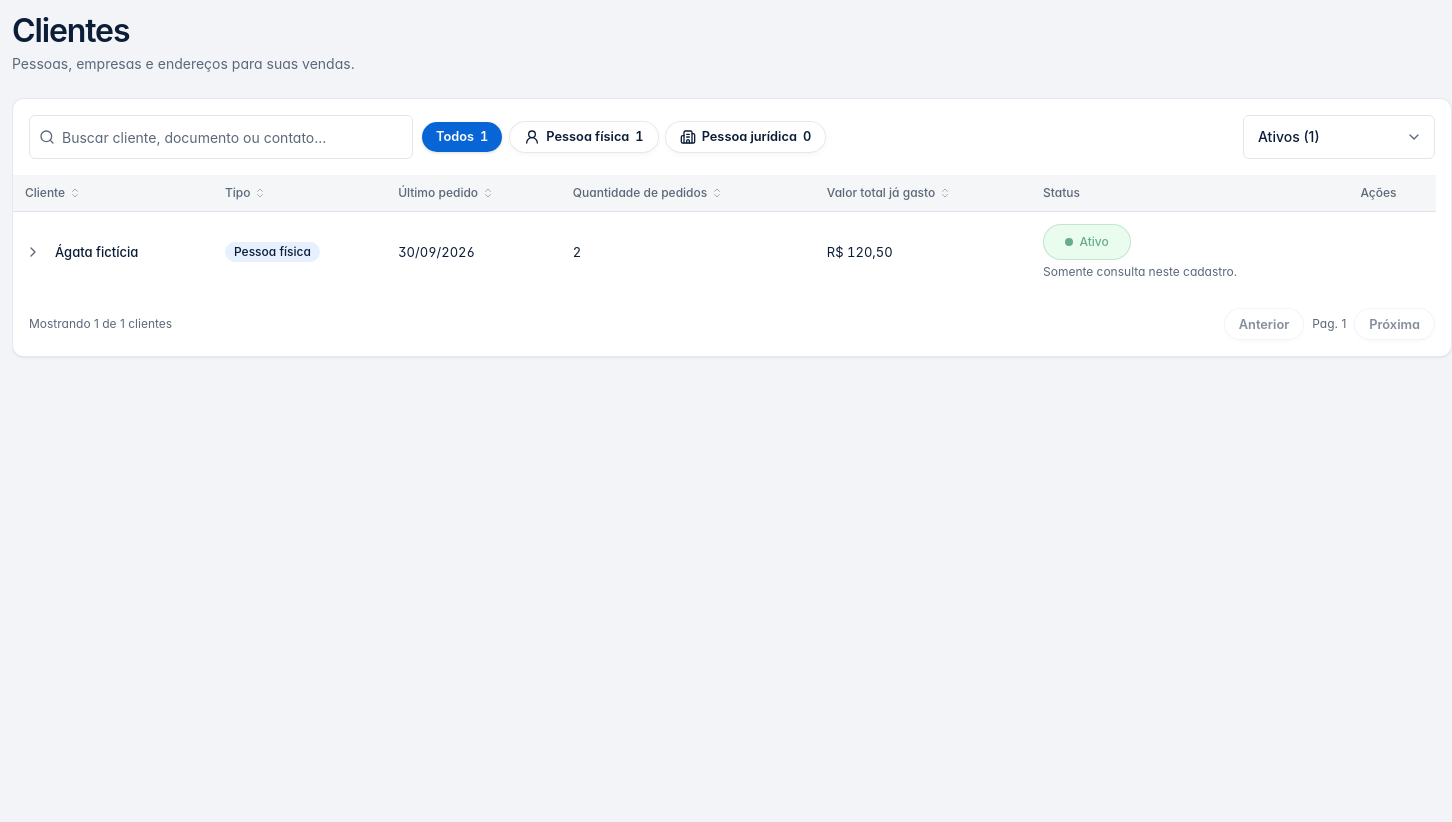
Test: clientes com padrões de Insumos › conserva a data civil da compra no último pedido e no histórico do cliente
Expected: the text "30/09/2026" is shown, [386,212,561,292]
Click the button named "Abrir detalhes de Ágata fictícia": [33, 252] box [21,240,45,264]
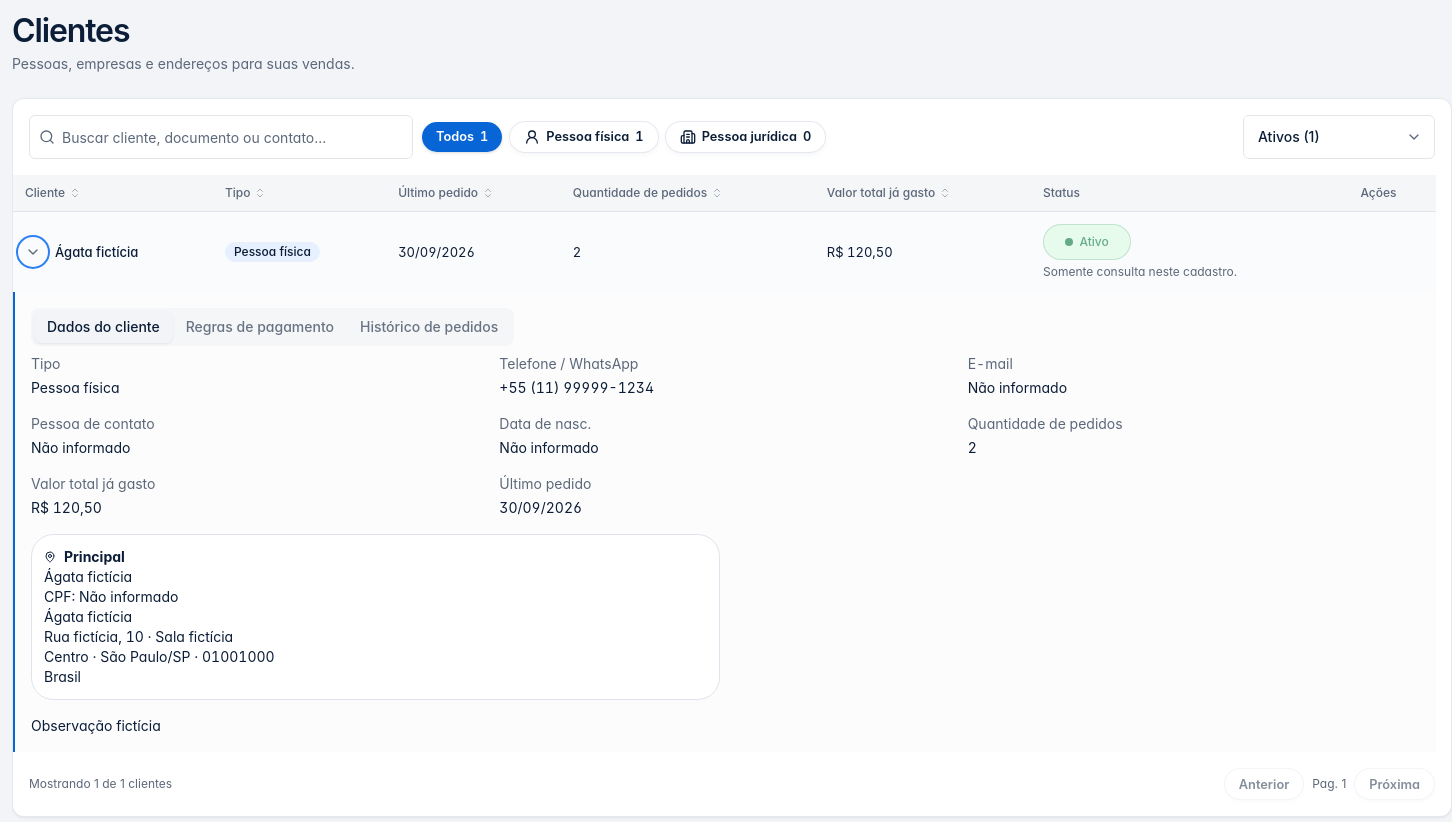
Click the tab "Histórico de pedidos": [429, 327] box [347,311,511,343]
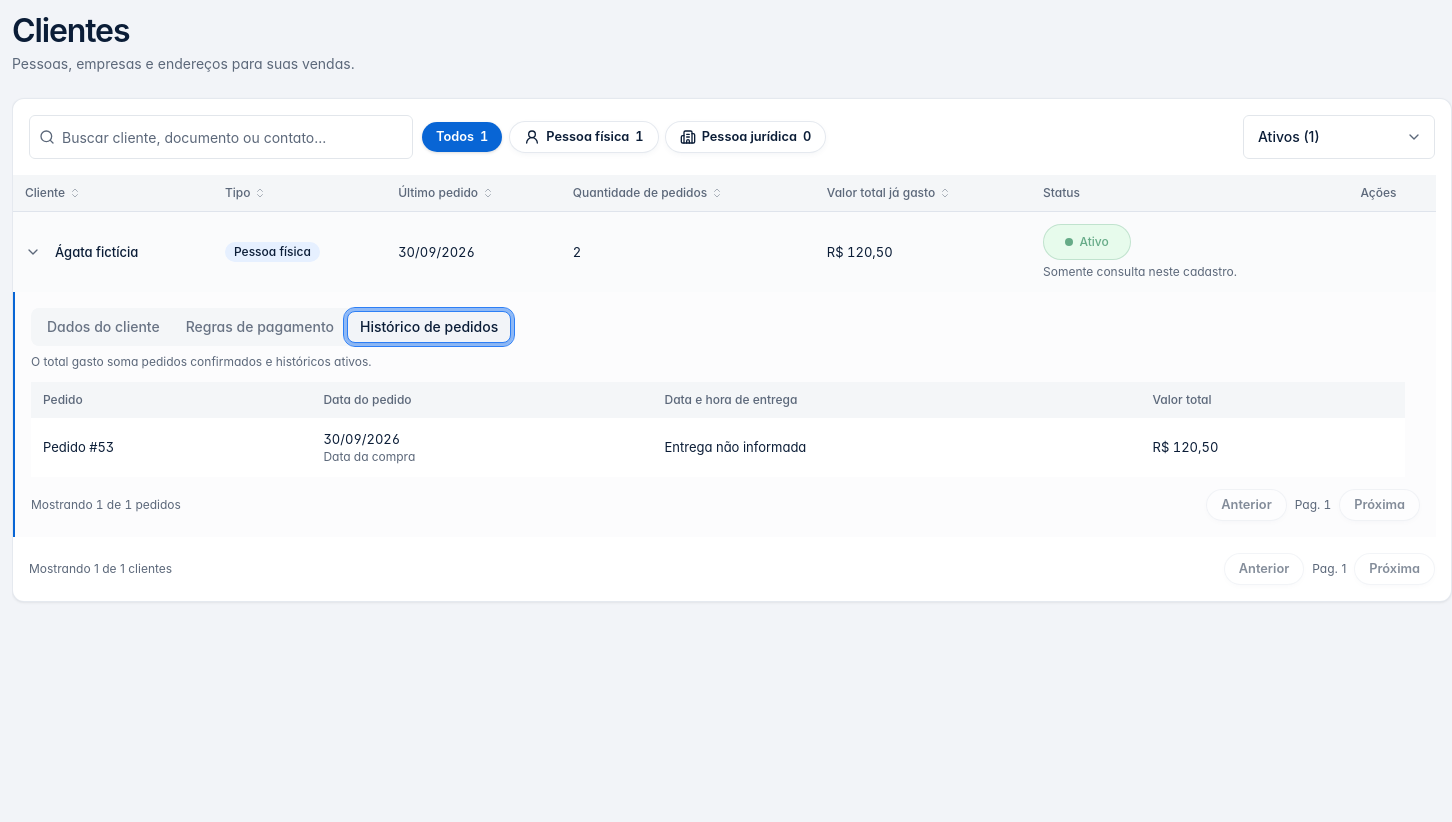
Now the link "Pedido #53" is shown, box [43,439,114,455]
Now the text "30/09/2026" is shown, box [323,431,400,447]
Now the text "Data da compra" is shown, box [323,449,415,464]
